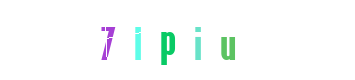1: (127, 0, 207, 80)
7: (68, 0, 148, 80)
I: (137, 0, 217, 80)
P: (129, 0, 209, 80)
U: (179, 0, 259, 80)
